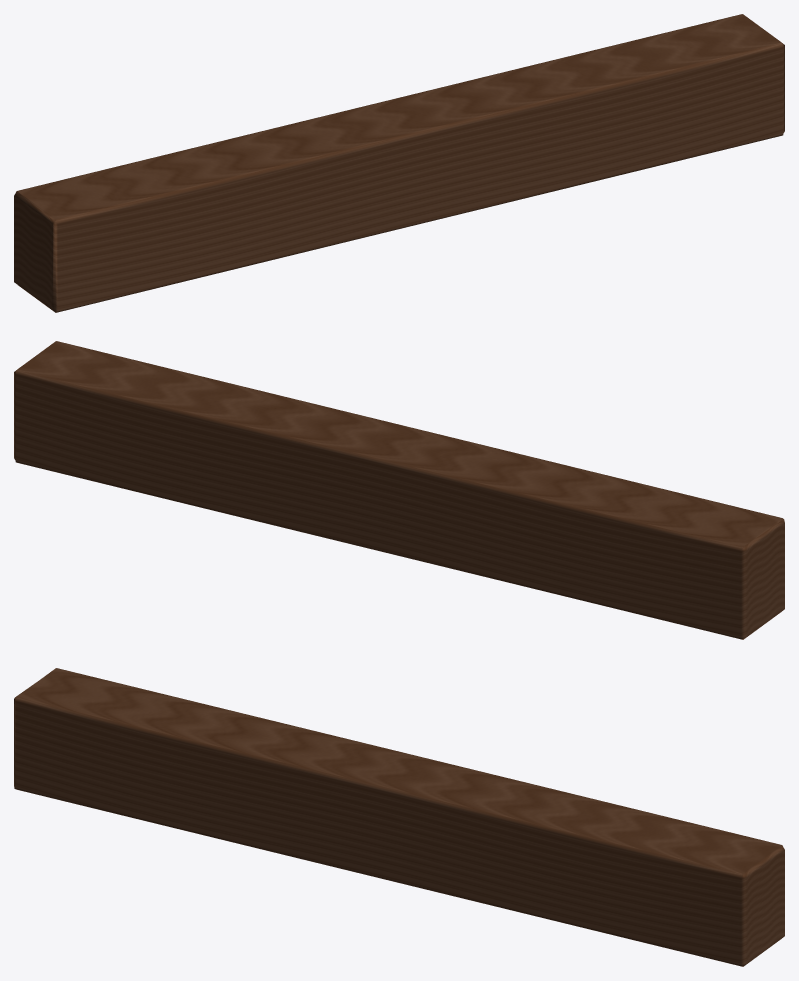
The model's file is beam.gltf.
The picture shows the model from 3 angles, top to bottom: view 1: azimuth 30°, elevation 25°; view 2: azimuth 150°, elevation 25°; view 3: azimuth 330°, elevation 25°; orthographic projection.
Size of the model in its own units: 1.8 by 0.22 by 0.18.
1 material, 1 textured.
